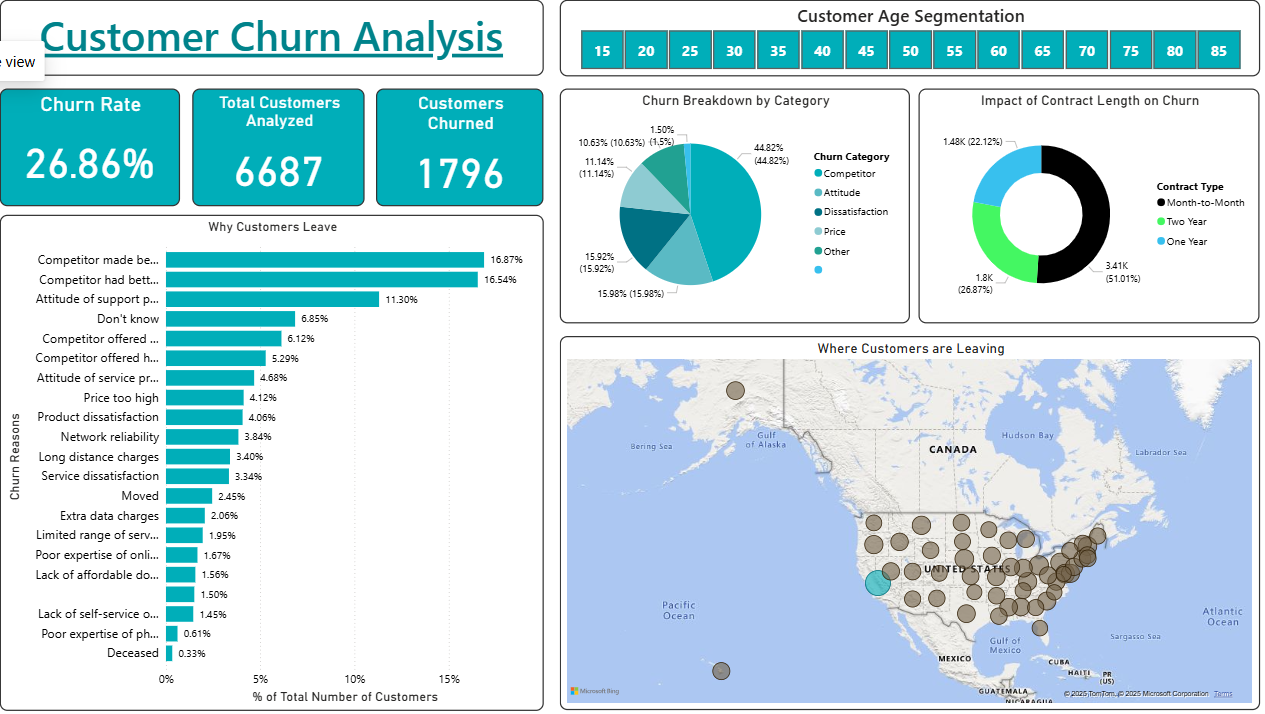

Layout of this report page (visuals, bound fields, positions):
{"tool":"powerbi","page":{"name":"Page 1","canvas":[1680,960],"ordinal":0},"visuals":[{"type":"slicer","title":"Customer Age Segmentation","fields":{"Values":["Databel - Data.Age (bins)"]},"box":[748.3,18.3,913.3,100],"z":0},{"type":"pieChart","title":"Churn Breakdown by Category","fields":{"Category":["Databel - Data.Churn Category"],"Y":["CountNonNull(Databel - Data.Churn Label)"]},"box":[748.3,133.3,456.7,306.7],"z":1000},{"type":"donutChart","title":"Impact of Contract Length on Churn","fields":{"Y":["Count(Databel - Data.Customer ID)"],"Category":["Databel - Data.Contract Type"]},"box":[1216.7,133.3,445,306.7],"z":2000},{"type":"clusteredBarChart","title":"Why Customers Leave","fields":{"Category":["Databel - Data.Churn Reason"],"Y":["CountNonNull(Databel - Data.Number of Customers in Group)"]},"box":[17.9,298.4,709.2,647.3],"z":3000},{"type":"card","title":"Churn Rate","fields":{"Values":["Databel - Data.Churn Rate"]},"box":[18.3,133.3,235,153.3],"z":4000},{"type":"card","title":"Total Customers Analyzed","fields":{"Values":["Count(Databel - Data.Customer ID)"]},"box":[268.3,133.3,225,153.3],"z":5000},{"type":"card","title":"Customers Churned ","fields":{"Values":["Sum(Databel - Data.Churned)"]},"box":[508.7,133.7,218.5,153.3],"z":6000},{"type":"map","title":"Where Customers are Leaving","fields":{"Category":["Databel - Data.State"],"Size":["Databel - Data.Churn Rate"]},"box":[748.3,456.7,913.3,488.3],"z":7000},{"type":"textbox","box":[17.9,17.9,709.2,99.5],"z":8000}]}

Visuals, with their boxes in screenshot pixels (x1, y1, x2, y2), scaled from the page's 1680x960 canvas onto the 1265x714 screenshot:
"Customer Age Segmentation" slicer: rect(563, 14, 1251, 88)
"Churn Breakdown by Category" pieChart: rect(563, 99, 907, 327)
"Impact of Contract Length on Churn" donutChart: rect(916, 99, 1251, 327)
"Why Customers Leave" clusteredBarChart: rect(13, 222, 547, 703)
"Churn Rate" card: rect(14, 99, 191, 213)
"Total Customers Analyzed" card: rect(202, 99, 371, 213)
"Customers Churned " card: rect(383, 99, 548, 213)
"Where Customers are Leaving" map: rect(563, 340, 1251, 703)
textbox: rect(13, 13, 547, 87)
